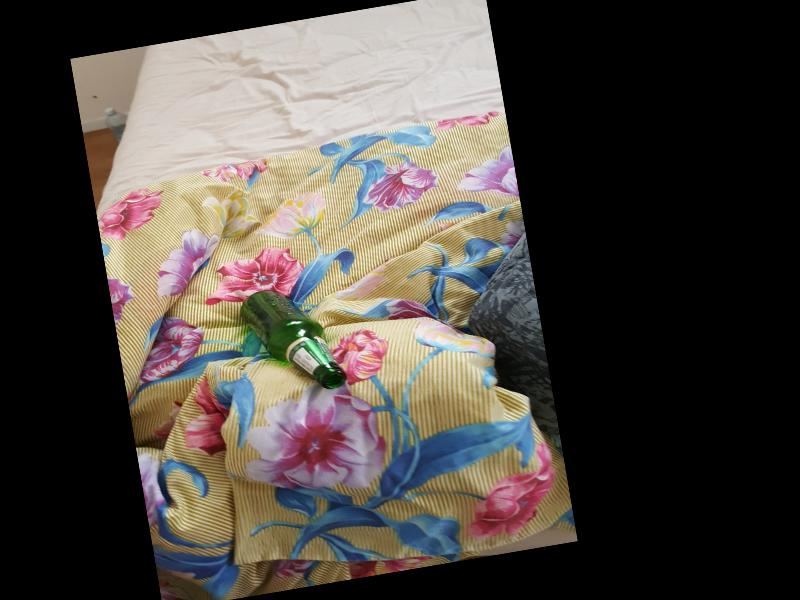Beer: (237, 280, 346, 403)
